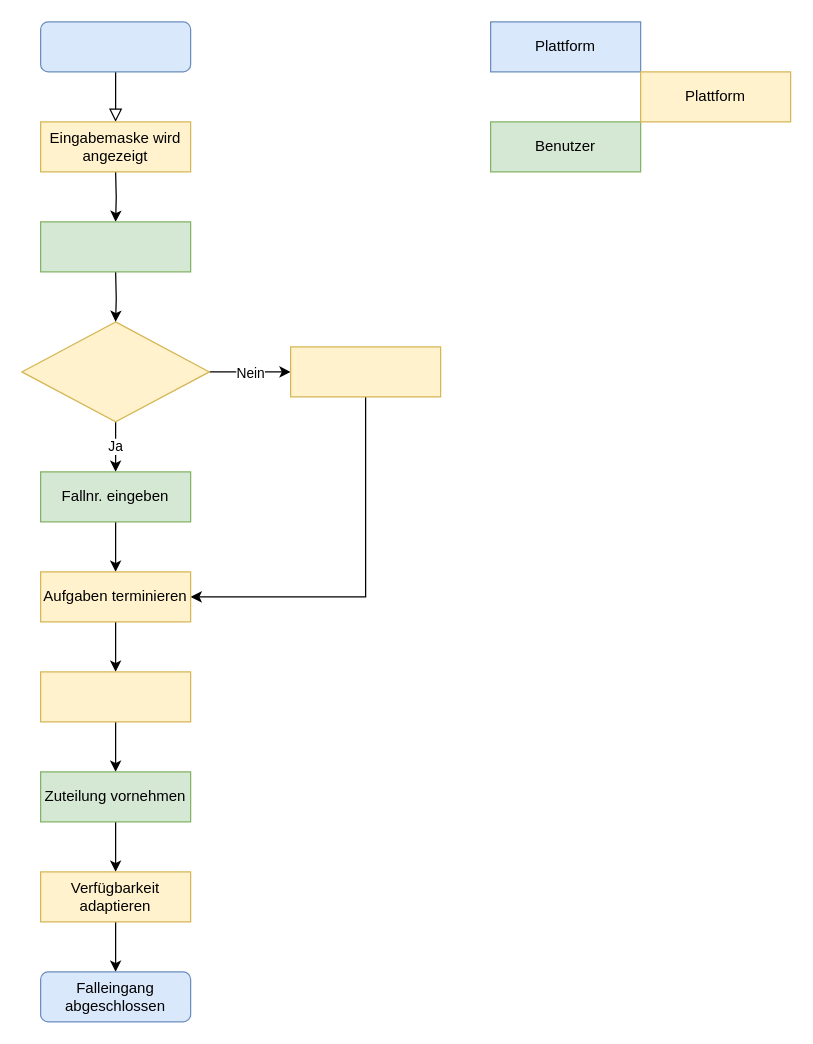
The diagram is 813 pixels wide and 1044 high, and some of its shapes have lost their labels. The shapes that lost their labels are listed below. From the top down, each one's centre as x and y in pixels, then its label:
pixel 115 46: Falleingang
pixel 115 246: Erfassung der Fallinformationen
pixel 115 371: Besteht bereits eine Fallnr.?
pixel 365 371: Fallnr. generieren
pixel 115 696: Verfügbarkeit anzeigen
